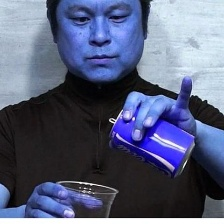can: (105, 98, 200, 181)
glass: (52, 179, 117, 217)
